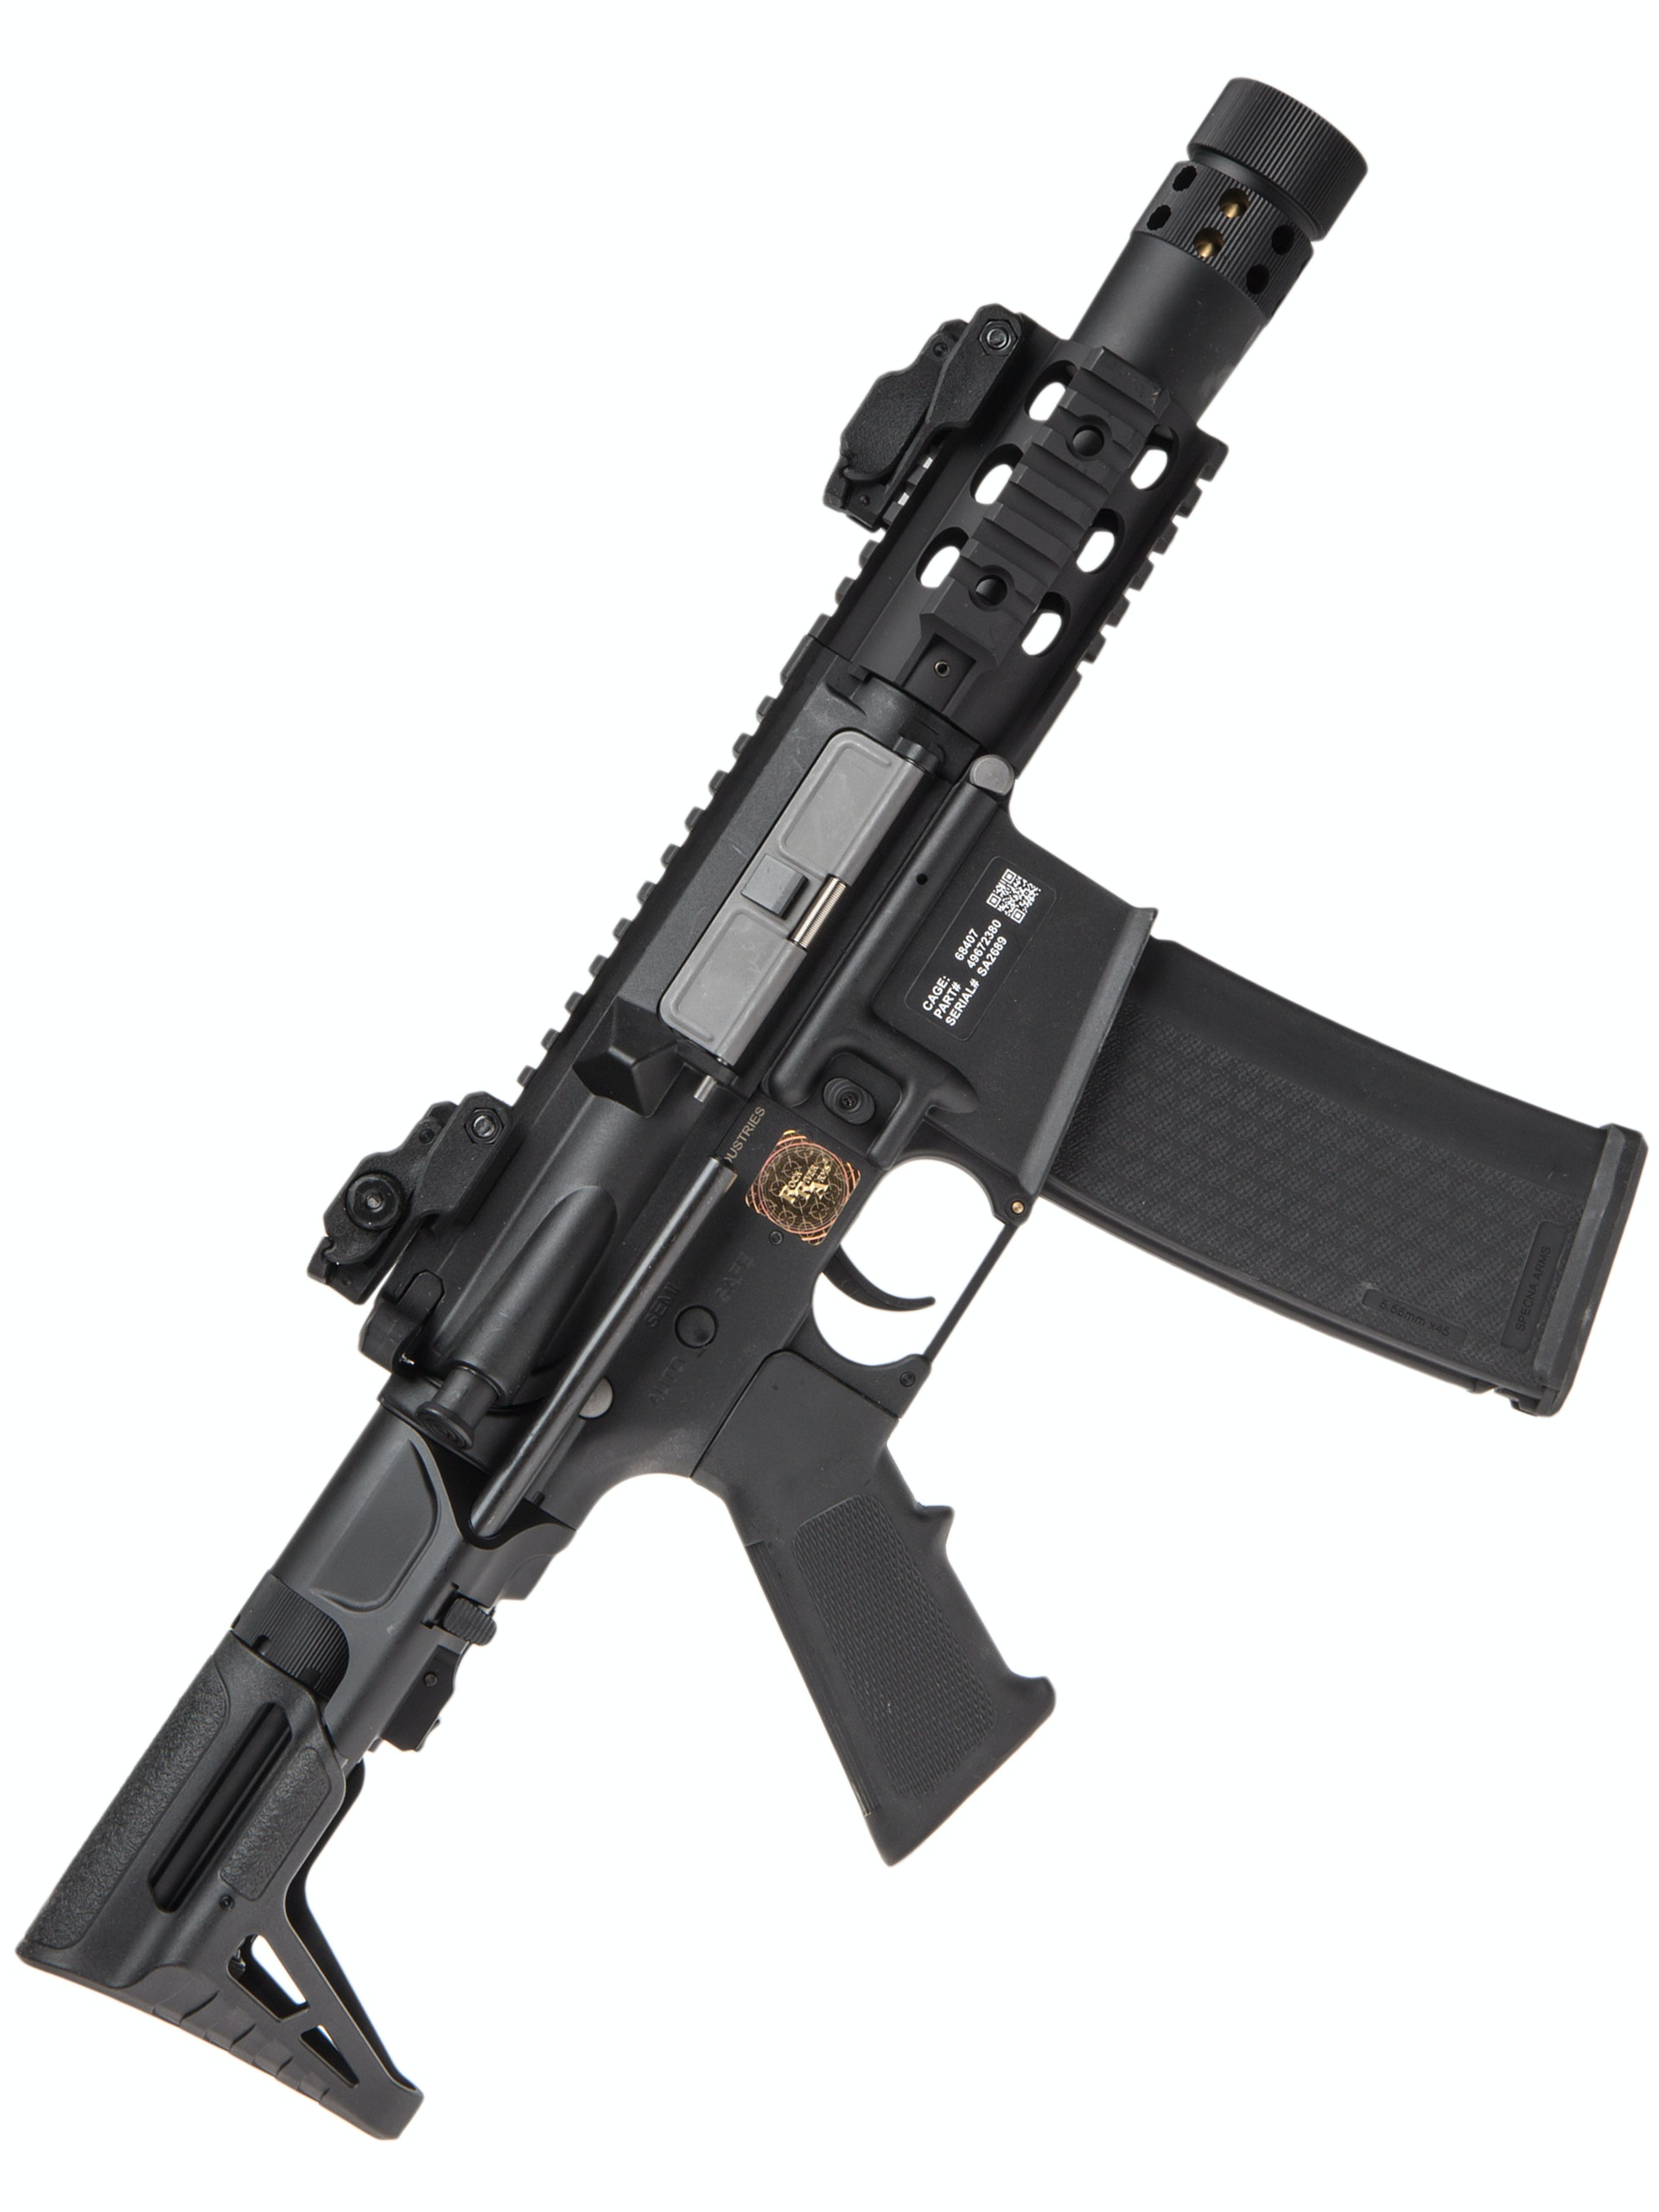m4_carbine: (120, 660, 1659, 1865)
